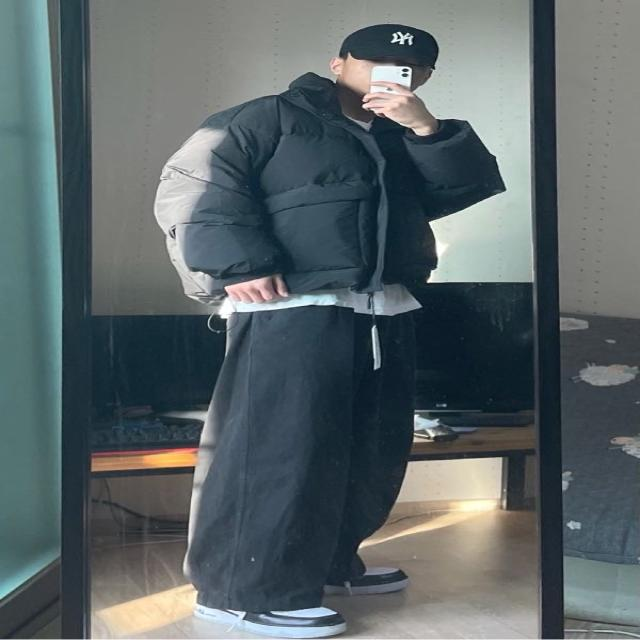cottonpants: (185, 302, 409, 608)
padding: (158, 73, 507, 300)
